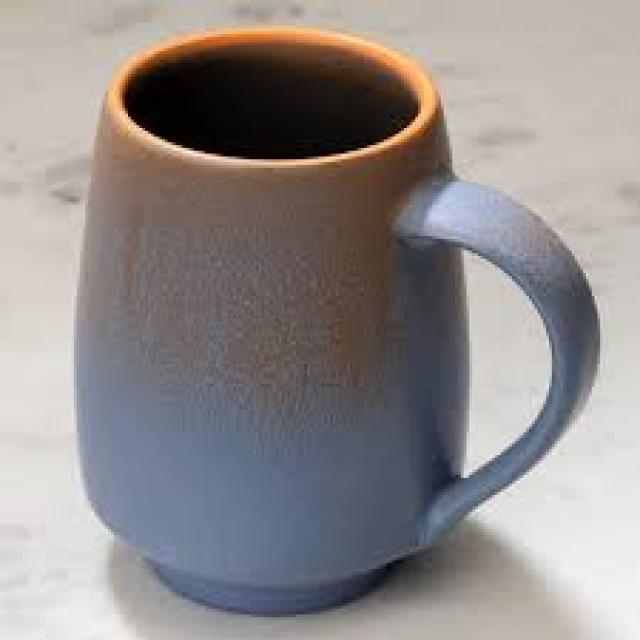taza: (75, 26, 600, 614)
